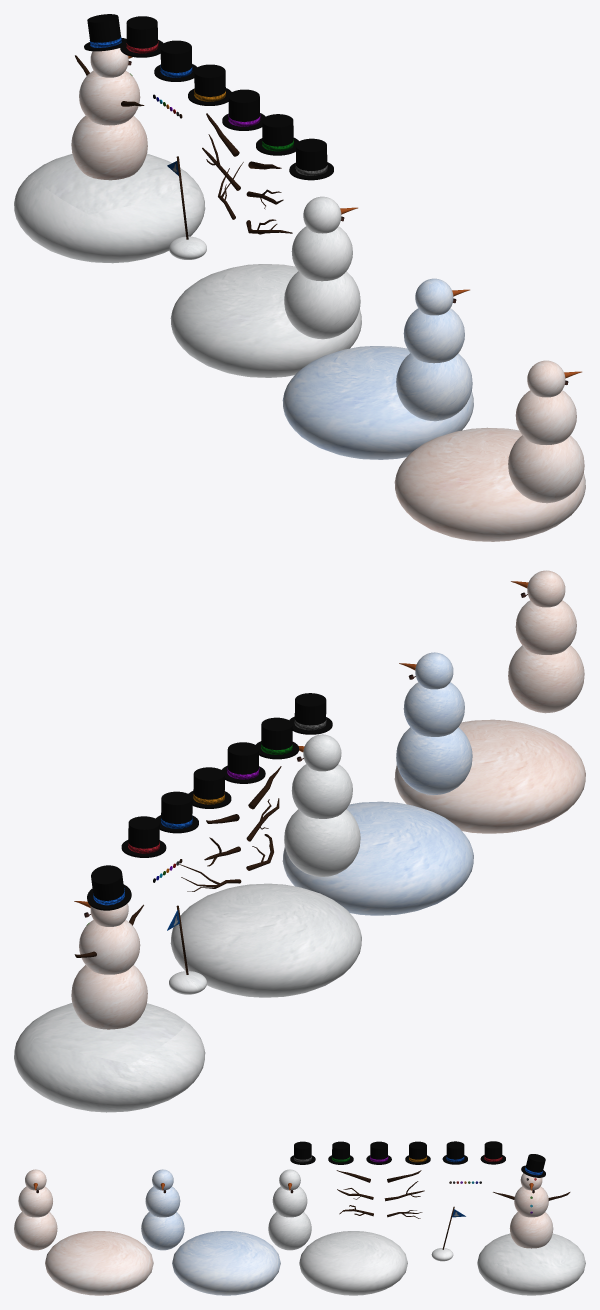
Rendered from snowmanMonument.fbx.
The picture shows the model from 3 angles, top to bottom: view 1: azimuth 30°, elevation 25°; view 2: azimuth 150°, elevation 25°; view 3: azimuth 270°, elevation 25°; orthographic projection. The views are drawn at different scales.
Visible parts, largest first — view 1: ExampleSnowBase, SnowBaseOrange, SnowBaseWhite, SnowBaseBlue, SnowmanBaseWhite, SnowmanBaseBlue, SnowmanBaseOrange, ExampleSnowballBot, ExampleSnowballMid, HatRibbonGrey, HatRibbonRed, HatRibbonYellow (+6 smaller); view 2: SnowBaseWhite, ExampleSnowBase, SnowBaseOrange, SnowBaseBlue, SnowmanBaseWhite, SnowmanBaseBlue, SnowmanBaseOrange, ExampleSnowballBot, ExampleSnowballMid, ExampleHat, HatRibbonRed, HatRibbonGrey (+5 smaller); view 3: SnowBaseBlue, SnowBaseWhite, SnowBaseOrange, ExampleSnowBase, SnowmanBaseOrange, SnowmanBaseWhite, SnowmanBaseBlue, ExampleSnowballBot, ExampleSnowballMid, HatRibbonBlue, HatRibbonRed, HatRibbonYellow (+6 smaller).
Boxes of the visible parts, bbox=[...] form: ExampleSnowBase: bbox=[14, 153, 205, 263]; SnowBaseOrange: bbox=[394, 427, 585, 541]; SnowBaseWhite: bbox=[170, 264, 361, 377]; SnowBaseBlue: bbox=[282, 346, 473, 459]; SnowmanBaseWhite: bbox=[284, 196, 360, 339]; SnowmanBaseBlue: bbox=[396, 278, 472, 421]; SnowmanBaseOrange: bbox=[508, 360, 584, 503]; ExampleSnowballBot: bbox=[71, 115, 147, 180]; ExampleSnowballMid: bbox=[79, 70, 140, 125]; HatRibbonGrey: bbox=[289, 138, 333, 180]; HatRibbonRed: bbox=[120, 16, 163, 57]; HatRibbonYellow: bbox=[188, 64, 231, 105]; SnowBaseWhite: bbox=[170, 883, 361, 997]; ExampleSnowBase: bbox=[14, 1003, 205, 1112]; SnowBaseOrange: bbox=[394, 719, 585, 833]; SnowBaseBlue: bbox=[282, 801, 473, 915]; SnowmanBaseWhite: bbox=[284, 734, 360, 876]; SnowmanBaseBlue: bbox=[396, 652, 472, 795]; SnowmanBaseOrange: bbox=[508, 570, 584, 713]; ExampleSnowballBot: bbox=[71, 965, 147, 1029]; ExampleSnowballMid: bbox=[79, 920, 140, 974]; ExampleHat: bbox=[87, 865, 131, 910]; HatRibbonRed: bbox=[121, 816, 166, 857]; HatRibbonGrey: bbox=[289, 693, 332, 734]; SnowBaseBlue: bbox=[172, 1231, 280, 1295]; SnowBaseWhite: bbox=[299, 1231, 407, 1295]; SnowBaseOrange: bbox=[45, 1231, 153, 1295]; ExampleSnowBase: bbox=[477, 1233, 585, 1295]; SnowmanBaseOrange: bbox=[14, 1169, 57, 1250]; SnowmanBaseWhite: bbox=[268, 1169, 311, 1250]; SnowmanBaseBlue: bbox=[141, 1169, 184, 1250]; ExampleSnowballBot: bbox=[509, 1212, 553, 1248]; ExampleSnowballMid: bbox=[514, 1186, 548, 1217]; HatRibbonBlue: bbox=[442, 1141, 467, 1164]; HatRibbonRed: bbox=[480, 1141, 505, 1164]; HatRibbonYellow: bbox=[405, 1141, 430, 1164].
Bounding box in the file's own units: 2250 × 612 × 428.
23 materials, 20 textured.
